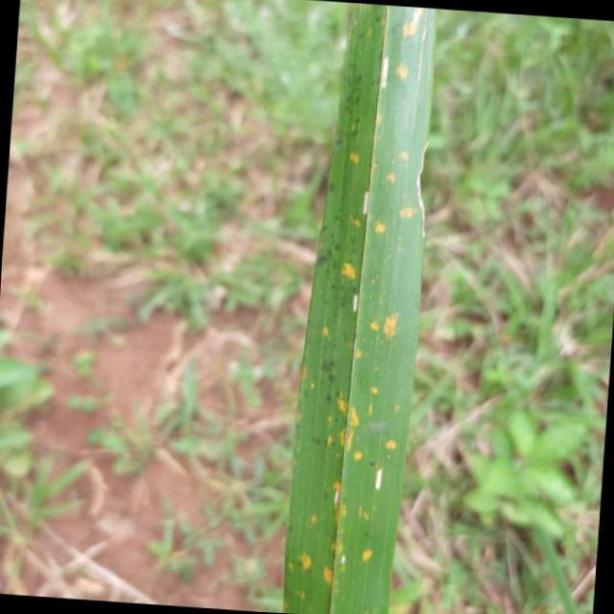Kalium: (283, 0, 445, 614)
